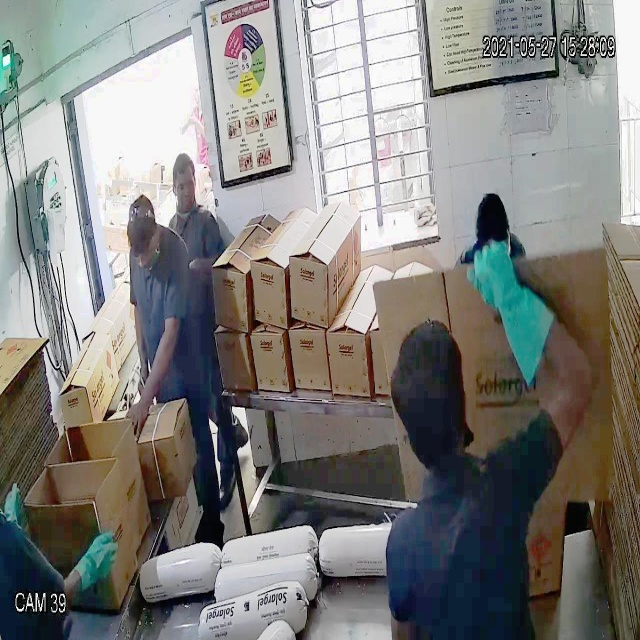Sin_gafas: (168, 176, 200, 198)
